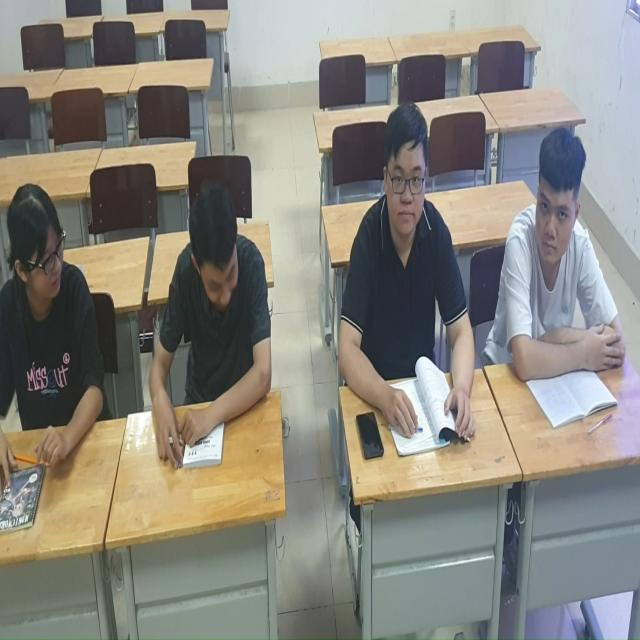read: (325, 112, 490, 456), (145, 158, 272, 478), (497, 119, 613, 426), (1, 149, 115, 429)
